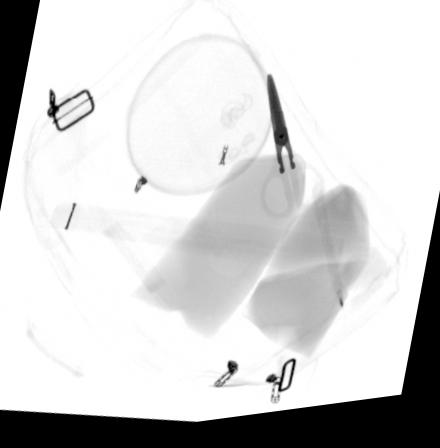Scissors: (258, 79, 318, 224)
